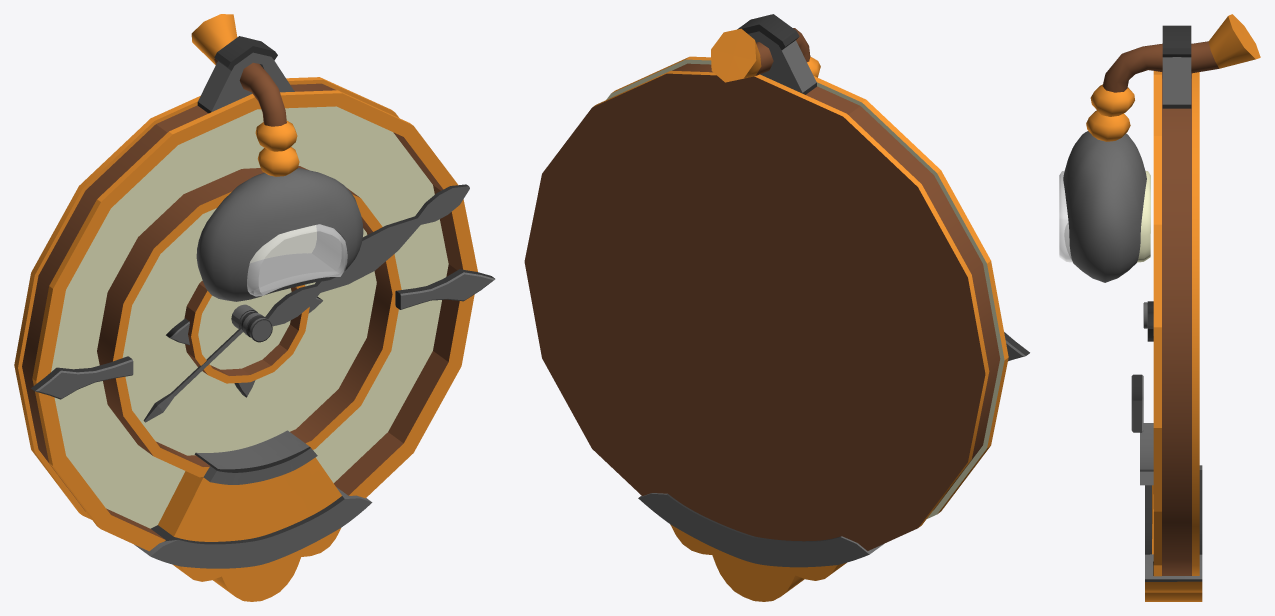
Rendered from LP_Clock.fbx.
The picture shows the model from 3 angles, left to right: view 1: azimuth 30°, elevation 25°; view 2: azimuth 150°, elevation 25°; view 3: azimuth 270°, elevation 25°; orthographic projection. The views are drawn at different scales.
Parts seen in each view (by area): view 1: LP_Clock_Body, LP_Clock_Detail_03, LP_Clock_Detail_04, LP_Clock_ClockHands, LP_Clock_Glass, LP_Clock_Detail_05, LP_Clock_Detail_02, LP_Clock_Detail_007, LP_Clock_Detail_01; view 2: LP_Clock_Body, LP_Clock_Detail_03, LP_Clock_Detail_007, LP_Clock_Detail_05; view 3: LP_Clock_Body, LP_Clock_Detail_04, LP_Clock_Detail_05, LP_Clock_Detail_03, LP_Clock_Detail_007, LP_Clock_Glass, LP_Clock_Detail_02, LP_Clock_ClockHands.
Boxes of the visible parts, left/top/right/bottom form: LP_Clock_Body: left=14, top=77, right=477, bottom=551; LP_Clock_Detail_03: left=134, top=430, right=372, bottom=601; LP_Clock_Detail_04: left=196, top=168, right=363, bottom=301; LP_Clock_ClockHands: left=143, top=184, right=469, bottom=422; LP_Clock_Glass: left=247, top=224, right=347, bottom=296; LP_Clock_Detail_05: left=191, top=14, right=299, bottom=176; LP_Clock_Detail_02: left=31, top=269, right=495, bottom=399; LP_Clock_Detail_007: left=197, top=36, right=294, bottom=113; LP_Clock_Detail_01: left=166, top=297, right=322, bottom=397; LP_Clock_Body: left=524, top=56, right=1008, bottom=550; LP_Clock_Detail_03: left=638, top=493, right=884, bottom=601; LP_Clock_Detail_007: left=737, top=14, right=816, bottom=94; LP_Clock_Detail_05: left=711, top=28, right=820, bottom=82; LP_Clock_Body: left=1153, top=71, right=1199, bottom=576; LP_Clock_Detail_04: left=1063, top=131, right=1146, bottom=282; LP_Clock_Detail_05: left=1086, top=14, right=1260, bottom=141; LP_Clock_Detail_03: left=1140, top=423, right=1202, bottom=601; LP_Clock_Detail_007: left=1162, top=25, right=1191, bottom=108; LP_Clock_Glass: left=1059, top=171, right=1150, bottom=262; LP_Clock_Detail_02: left=1131, top=374, right=1143, bottom=432; LP_Clock_ClockHands: left=1143, top=301, right=1153, bottom=341.
Size of the model in its own units: 212 by 246 by 77.19.
